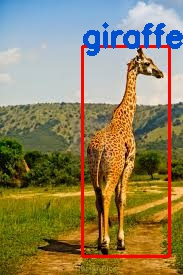giraffe: (81, 46, 168, 255)
